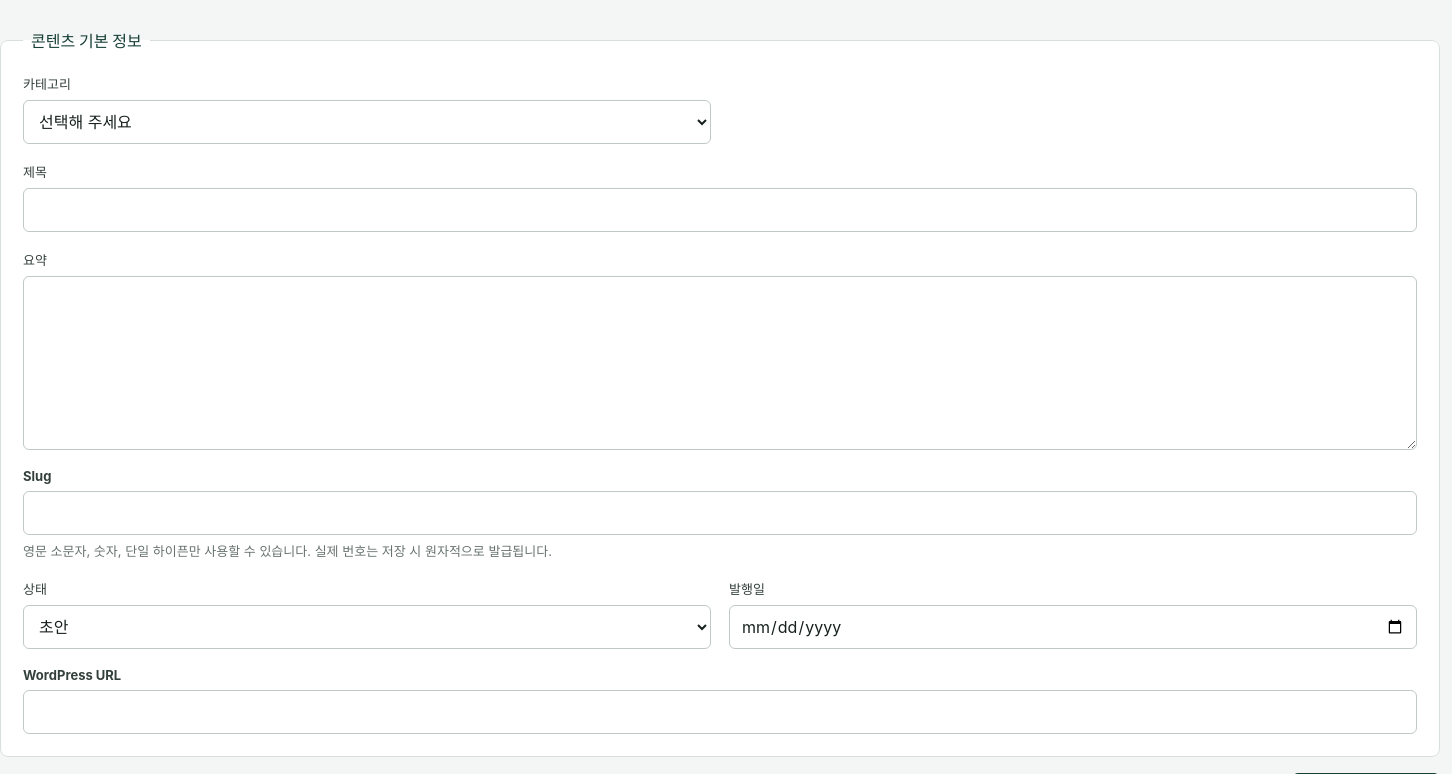
Test case: PostForm › technology 선택과 날짜 변경 시 slug 미리보기를 갱신한다
Select "과학기술" in the dropdown labelled "카테고리" at {"x": 367, "y": 122}, box [23,100,711,144]
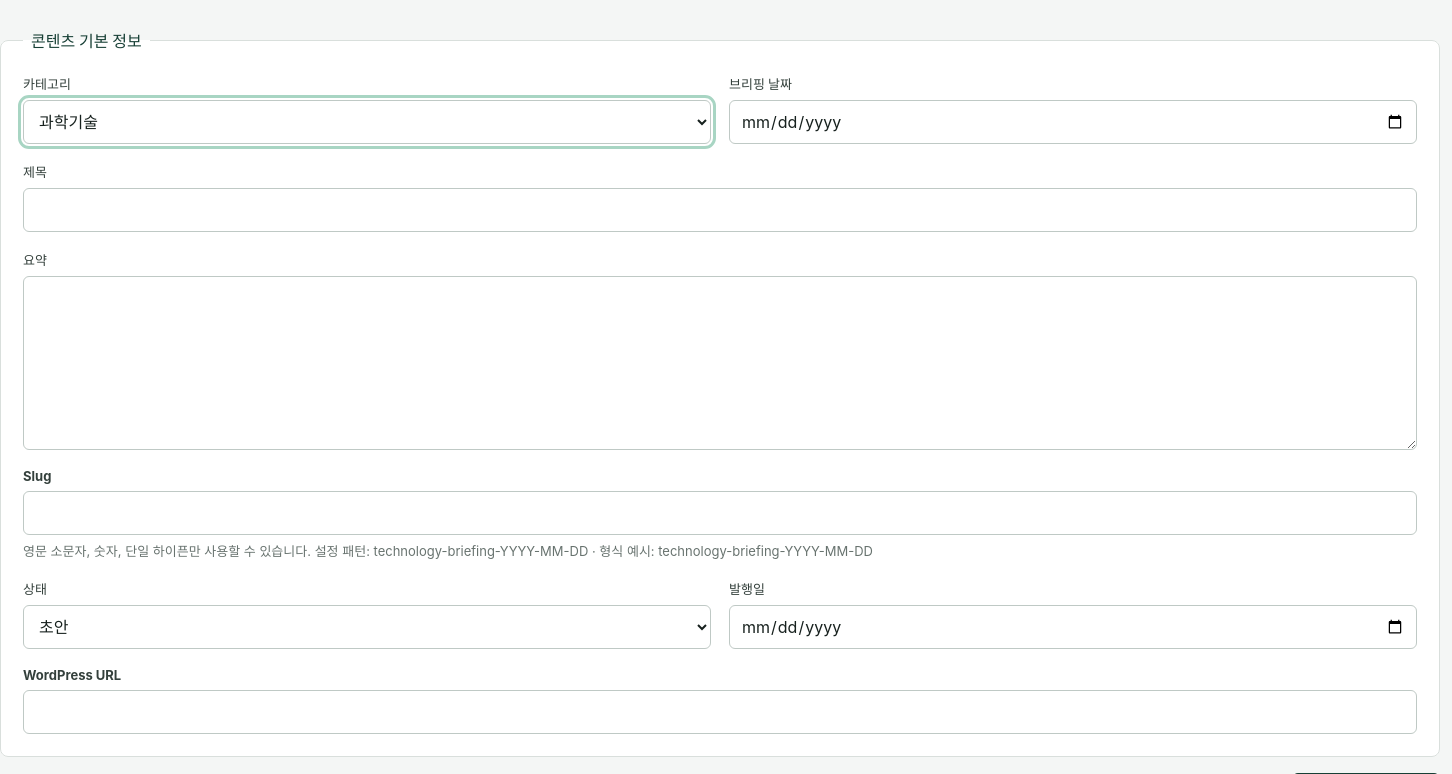
Type "2026-07-16" into the date field labelled "브리핑 날짜" at {"x": 1073, "y": 122}, box [729,100,1417,144]
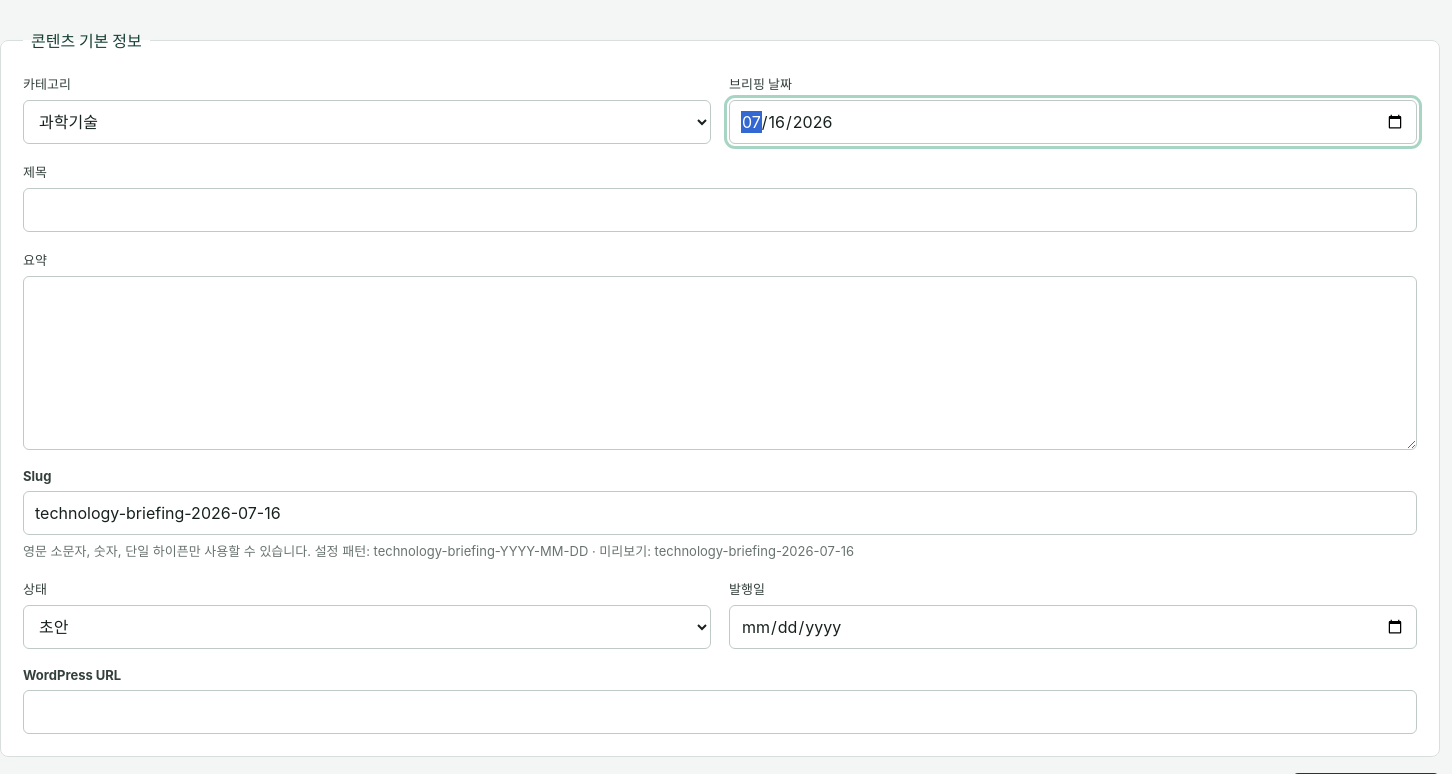
Expected: the field labelled "Slug" holds "technology-briefing-2026-07-16", [23,491,1417,535]
